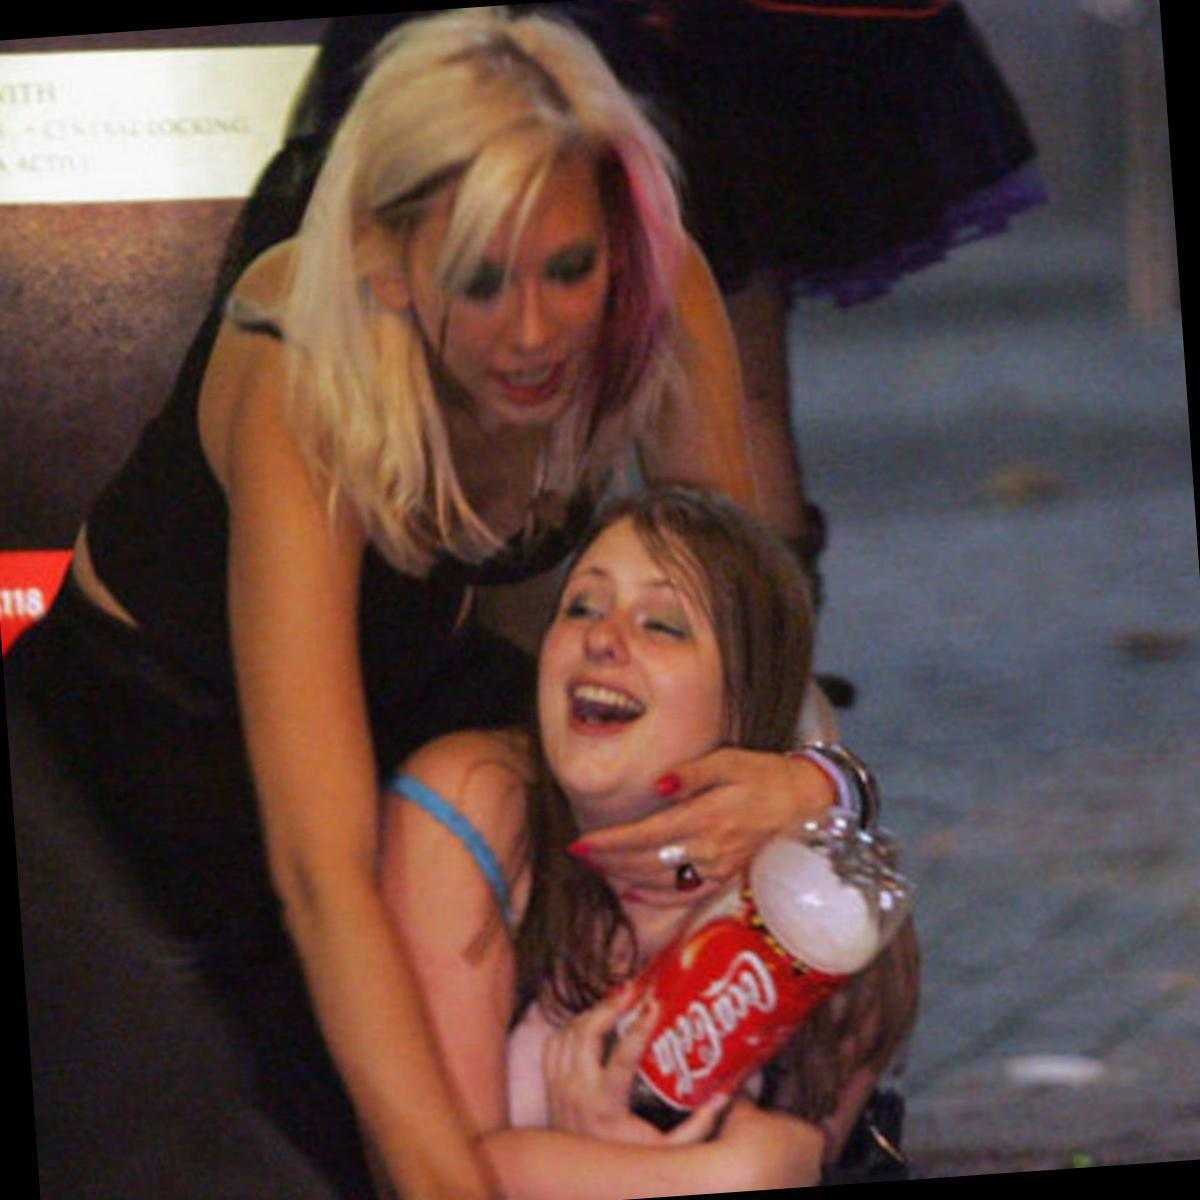Drunk: (541, 527, 725, 795), (431, 156, 607, 424)
